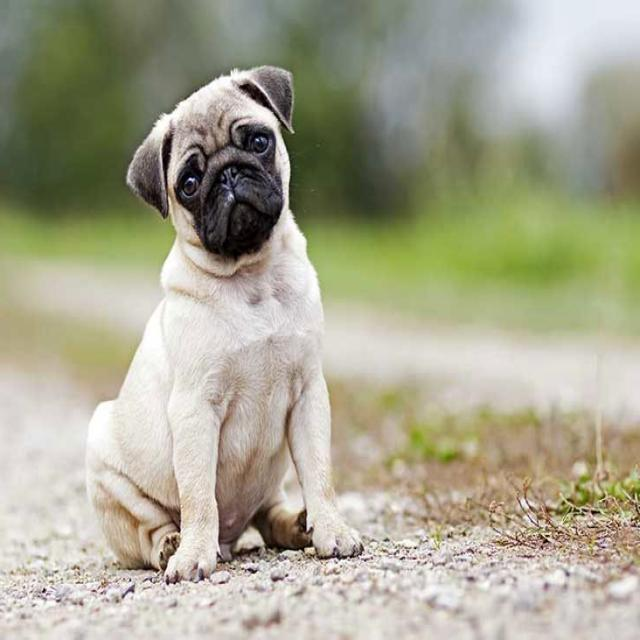dog: (87, 66, 362, 581)
